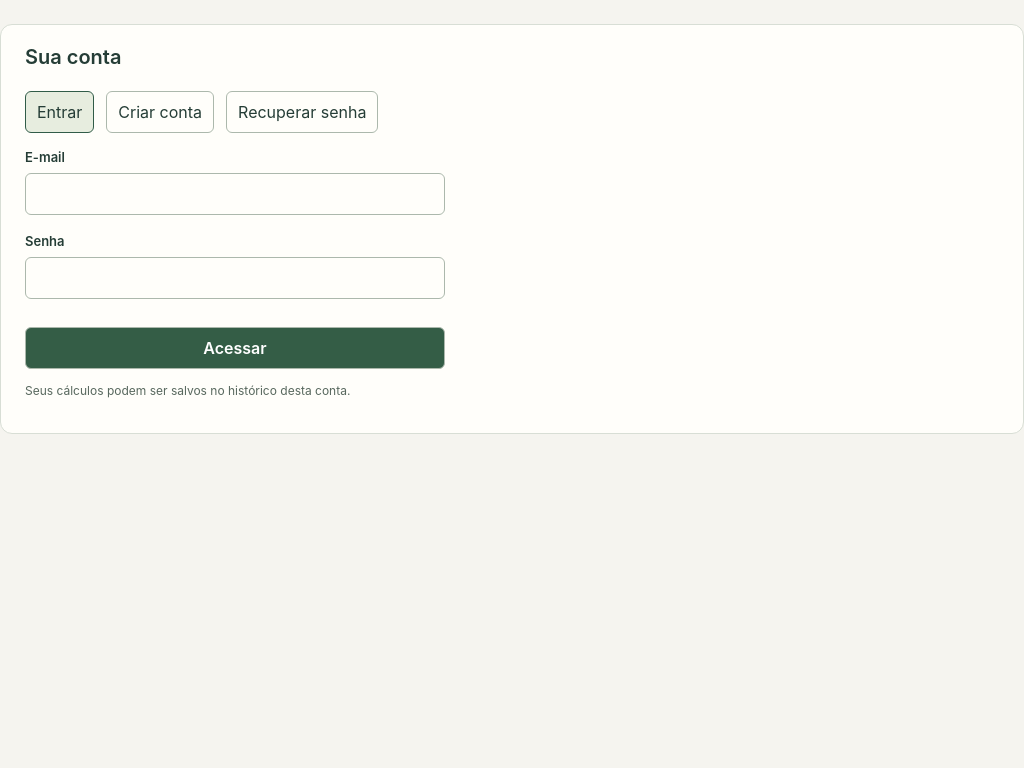
Scenario: account interface › validates password confirmation and sends the signup redirect
The image size is (1024, 768).
Expected: the field labelled "E-mail" is shown, [25,173,445,215]
Click the button "Criar conta" at (160, 112), box [106,91,214,133]
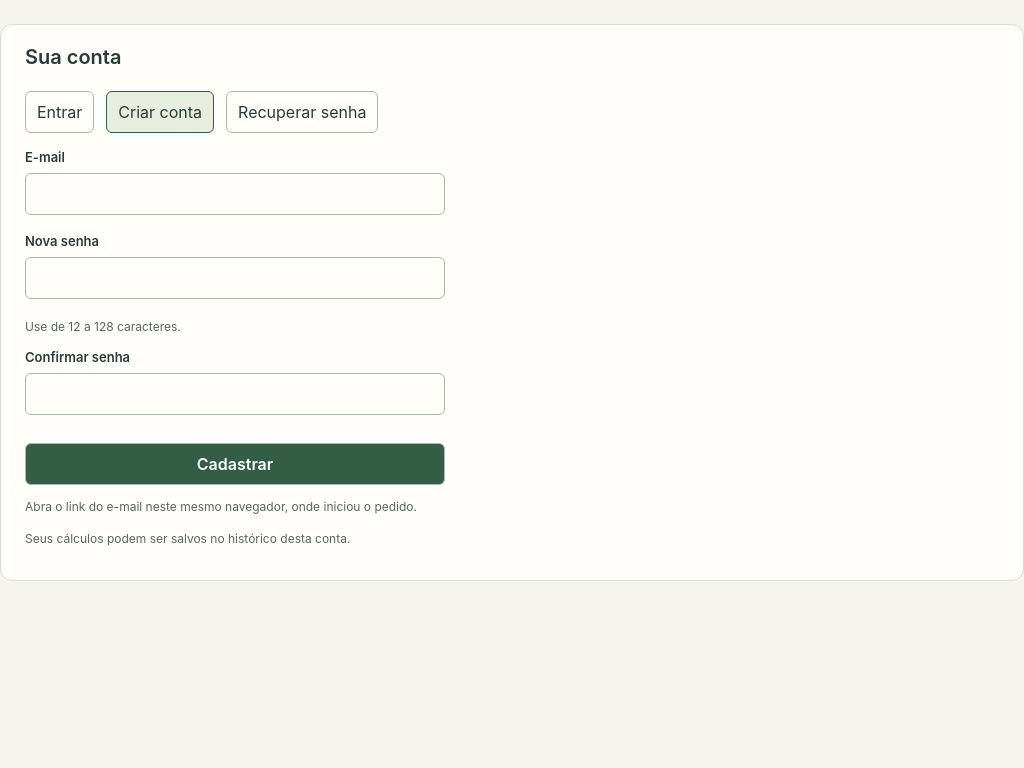
Type "student@example.test" into the field labelled "E-mail" at (235, 194), box [25,173,445,215]
Type "long-password-123" into the password field labelled "Nova senha" at (235, 278), box [25,257,445,299]
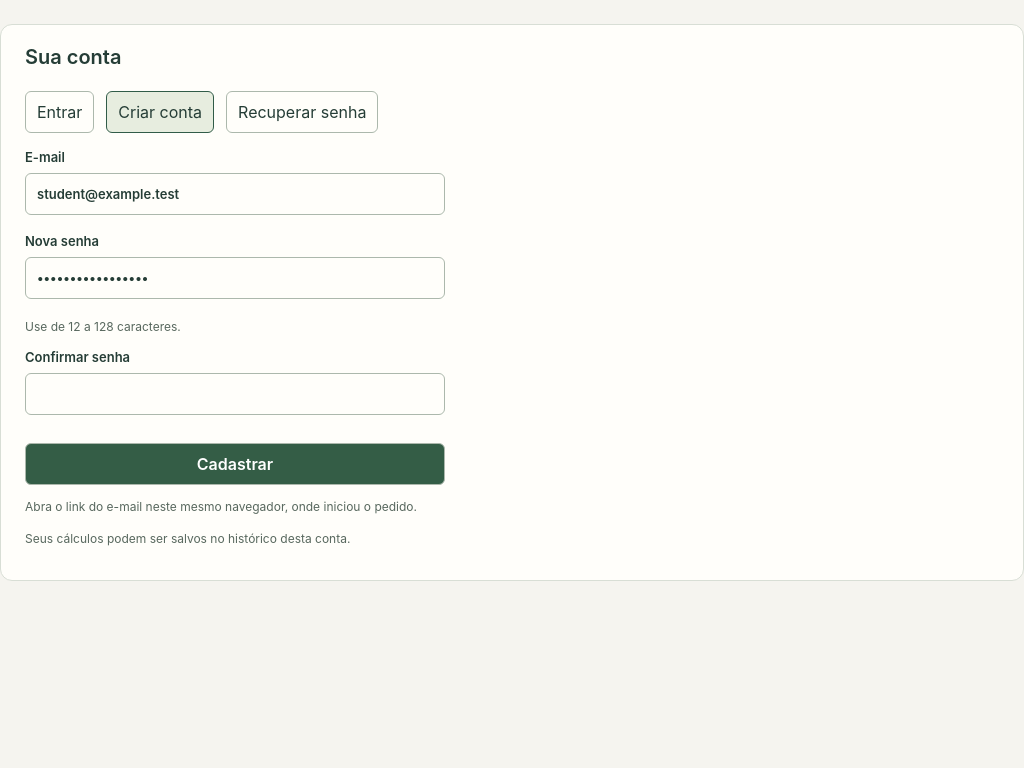
Type "different-password" into the password field labelled "Confirmar senha" at (235, 394), box [25,373,445,415]
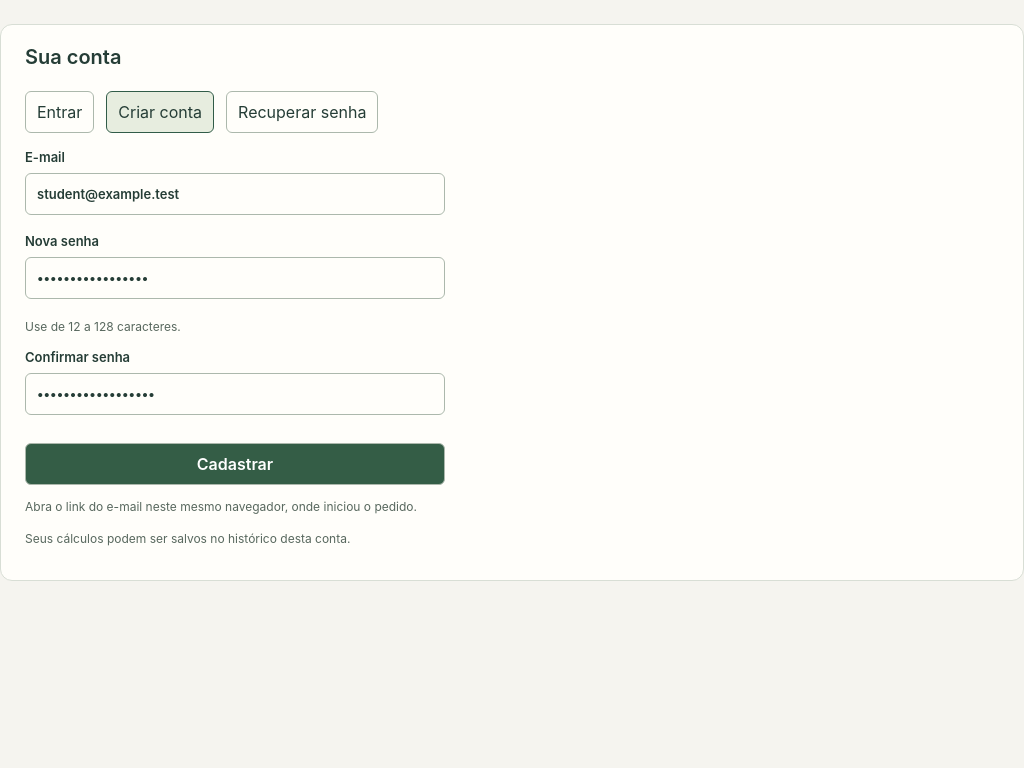
Click the button "Cadastrar" at (235, 464), box [25,443,445,485]
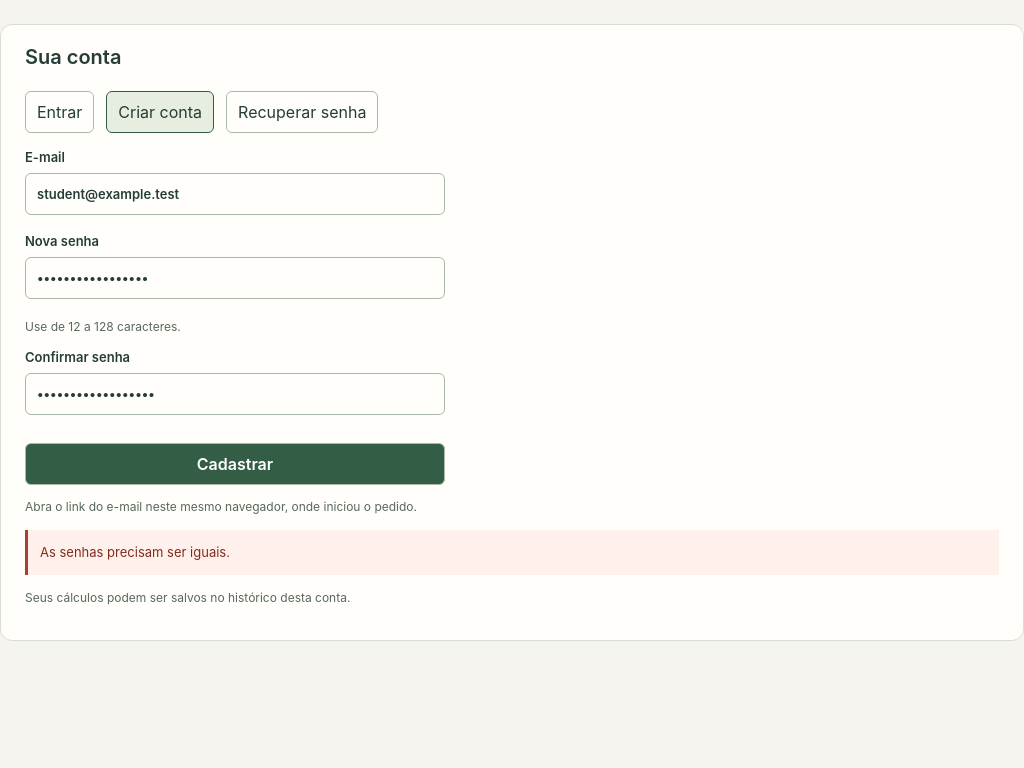
Expected: the message shows "iguais", [40,544,230,560]
Type "long-password-123" into the password field labelled "Confirmar senha" at (235, 394), box [25,373,445,415]
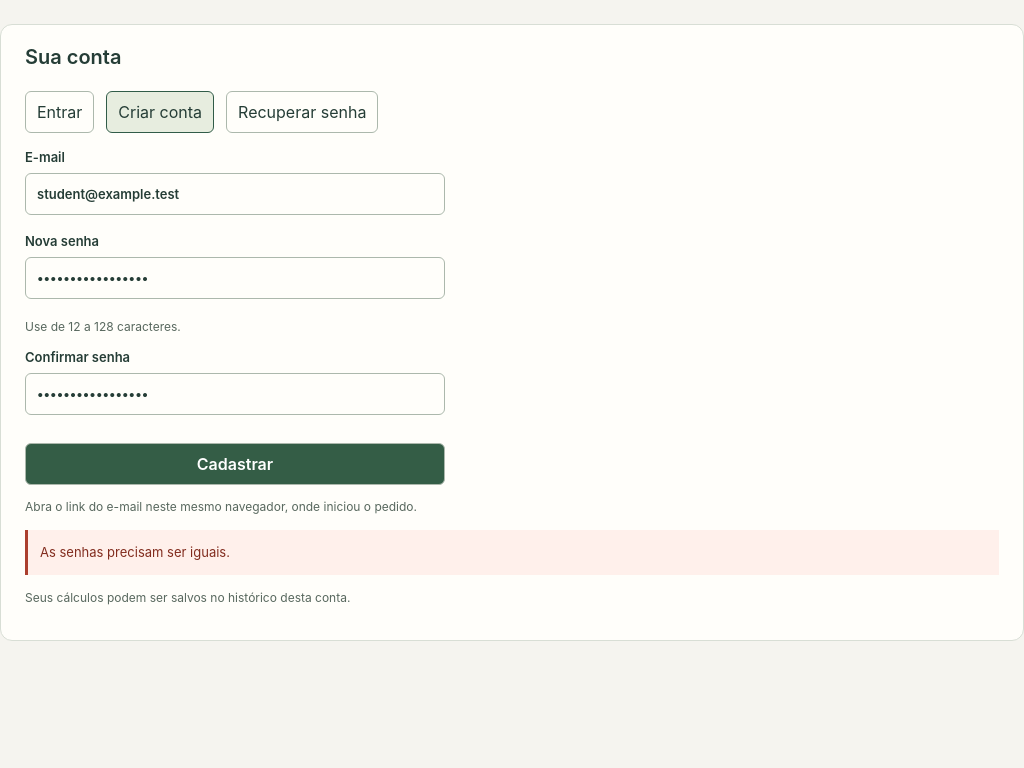
Click the button "Cadastrar" at (235, 464), box [25,443,445,485]
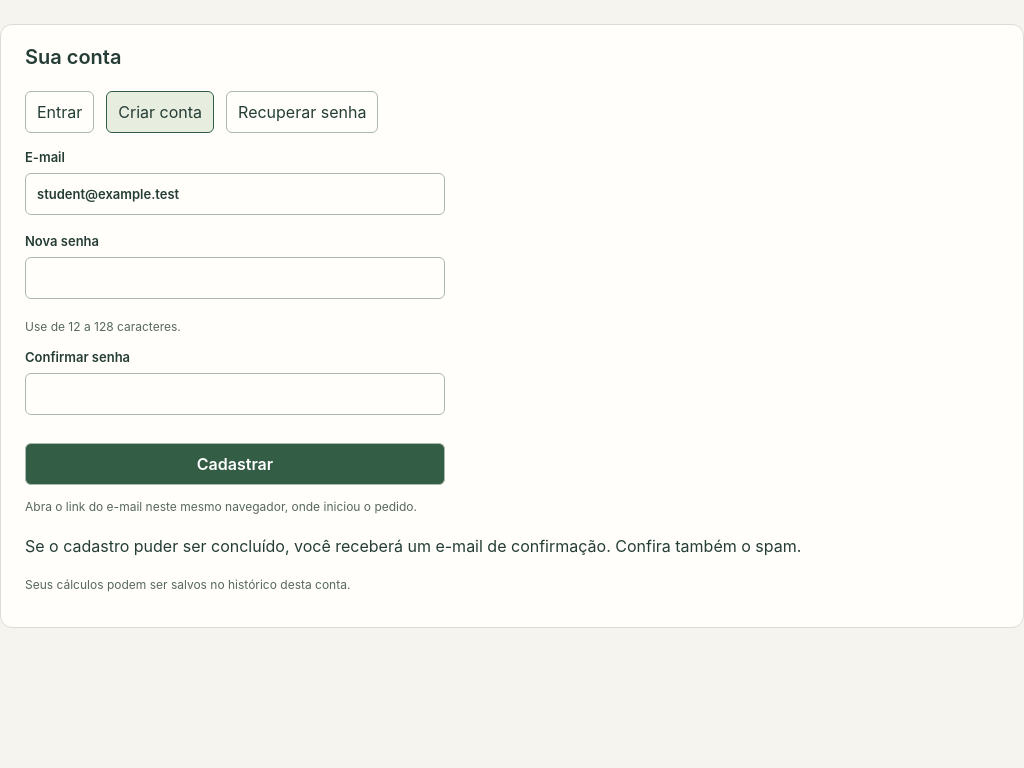
Expected: the text "Se o cadastro puder ser concluído" is shown, [25,536,801,556]
